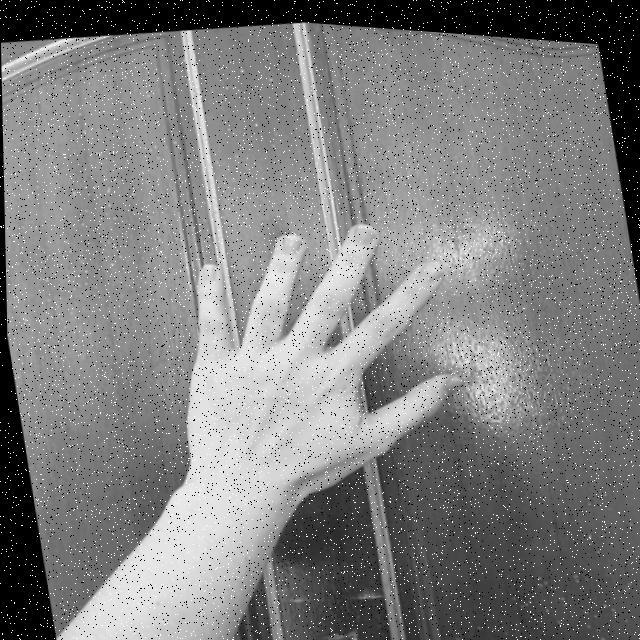no-gloves: (148, 190, 477, 498)
